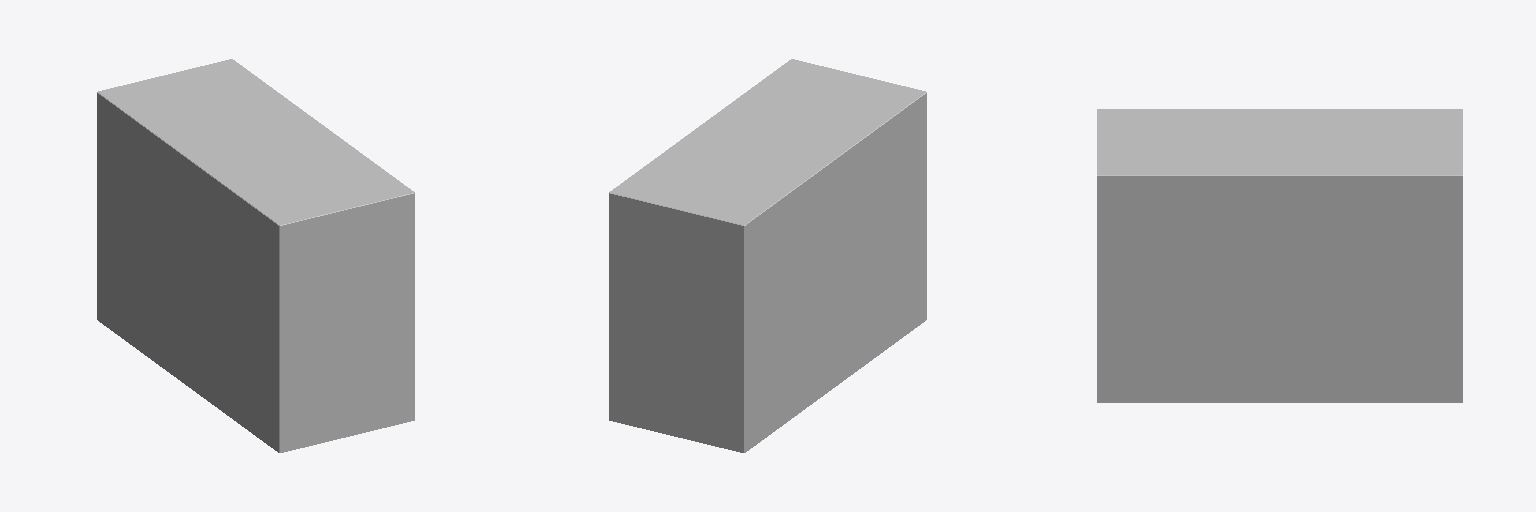
The model's file is Room_02_Platform_03.obj.
The picture shows the model from 3 angles: view 1: azimuth 30°, elevation 25°; view 2: azimuth 150°, elevation 25°; view 3: azimuth 270°, elevation 25°; orthographic projection.
Parts seen in each view (by area): view 1: Room_02_Platform_03_Cube.019; view 2: Room_02_Platform_03_Cube.019; view 3: Room_02_Platform_03_Cube.019.
Boxes of the visible parts, x1,y1,x2,y2 form: Room_02_Platform_03_Cube.019: [97, 59, 414, 452]; Room_02_Platform_03_Cube.019: [609, 59, 926, 452]; Room_02_Platform_03_Cube.019: [1097, 109, 1462, 402].
Bounding box in the file's own units: 6.73 × 10.75 × 15.67.